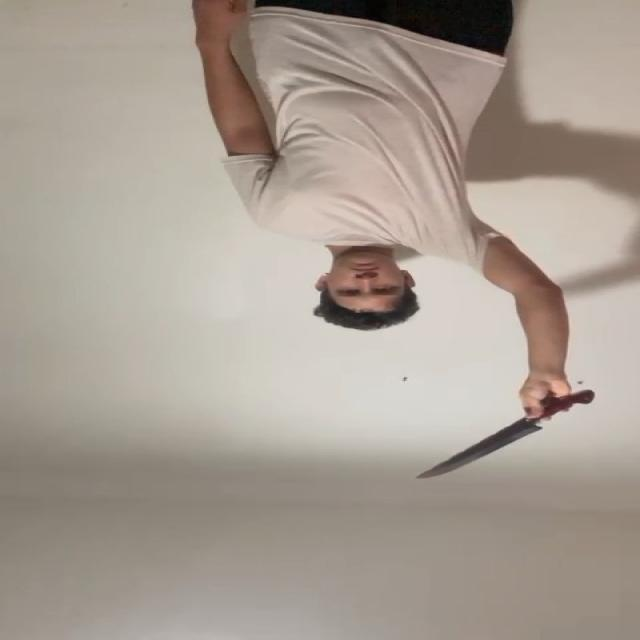knife: (422, 421, 544, 479)
